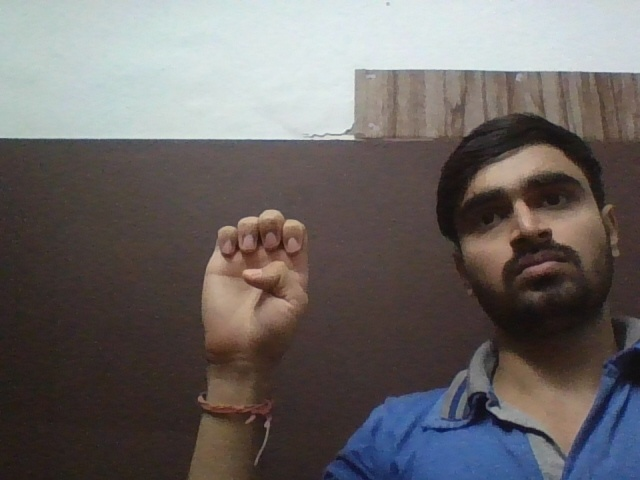E: (193, 210, 327, 369)
